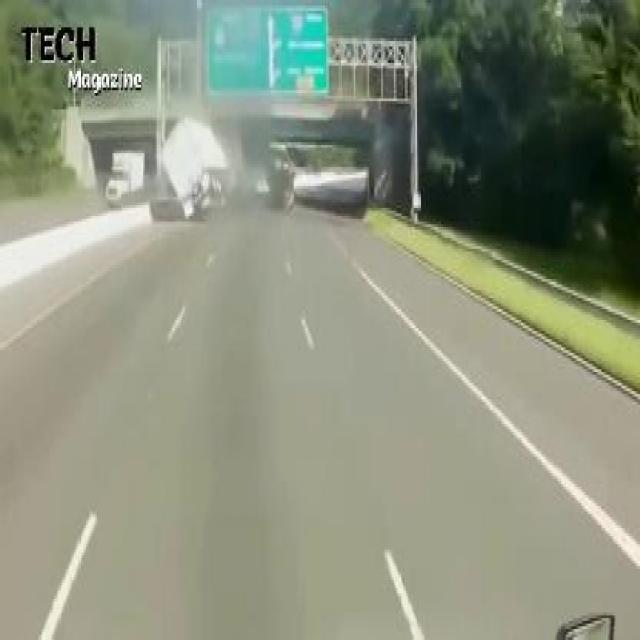accident: (157, 115, 231, 224)
